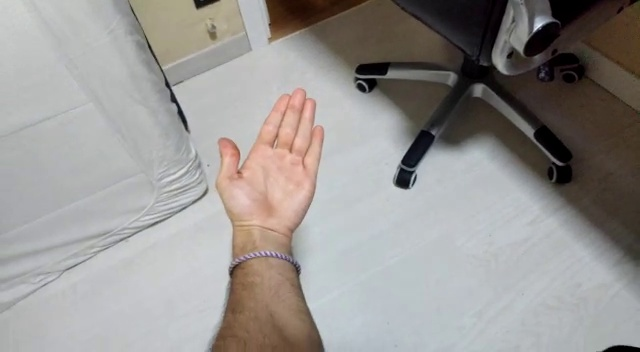Palm: (213, 87, 328, 226)
